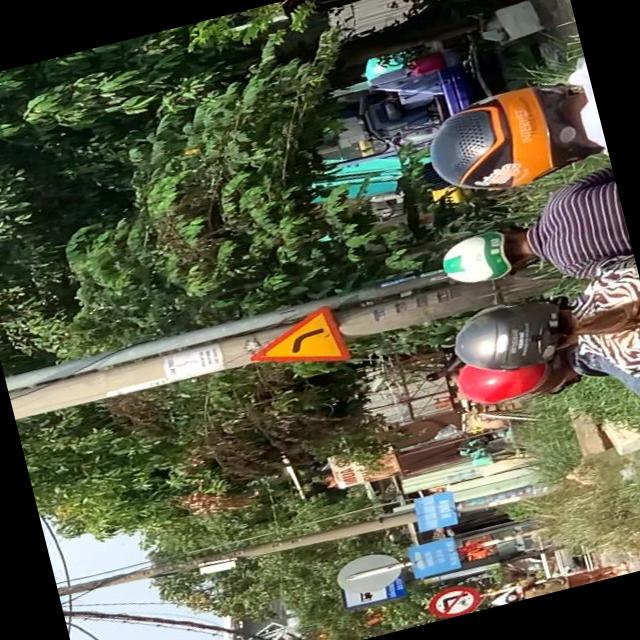P-123a: (427, 580, 482, 618)
W-201a: (240, 304, 350, 383)
